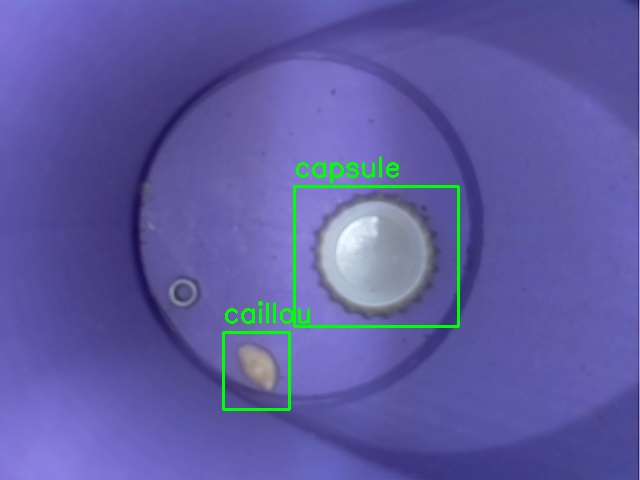caillou: (223, 332, 289, 409)
capsule: (294, 186, 458, 326)
